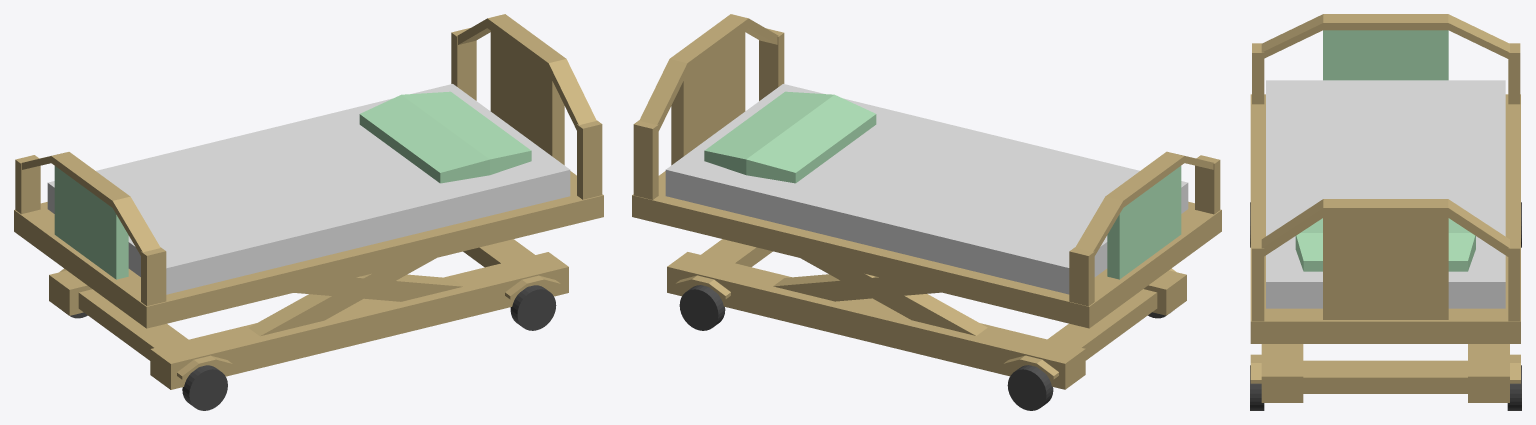
The model's file is hospital_bed.fbx.
3 renders of one model, left to right at view 1: azimuth 30°, elevation 25°; view 2: azimuth 150°, elevation 25°; view 3: azimuth 270°, elevation 25°, orthographic.
Visible parts, largest first — view 1: Cube.009, Cube, Cube.016, Cube.010, Cube.006, Cube.002, Cube.005, Cube.014, Cube.001, Cube.018, Cube.013, Cube.007 (+7 smaller); view 2: Cube.009, Cube, Cube.015, Cube.010, Cube.006, Cube.002, Cube.005, Cube.012, Cube.001, Cube.018, Cube.011, Cube.008 (+7 smaller); view 3: Cube.009, Cube.006, Cube, Cube.002, Cube.017, Cube.005, Cube.001, Cube.016, Cube.015, Cube.010, Cube.008, Cube.007 (+6 smaller).
Part boxes in pixels (x1,y1,x2,y2): Cube.009: (47, 84, 570, 294); Cube: (14, 171, 603, 328); Cube.016: (150, 252, 568, 389); Cube.010: (359, 91, 531, 183); Cube.006: (490, 31, 564, 165); Cube.002: (54, 166, 128, 279); Cube.005: (457, 14, 596, 130); Cube.014: (249, 258, 436, 336); Cube.001: (21, 152, 160, 255); Cube.018: (78, 289, 188, 360); Cube.013: (294, 274, 462, 301); Cube.007: (577, 120, 602, 199); Cube.009: (665, 84, 1188, 294); Cube: (632, 171, 1221, 328); Cube.015: (667, 252, 1085, 389); Cube.010: (704, 91, 876, 183); Cube.006: (671, 31, 745, 165); Cube.002: (1107, 166, 1181, 279); Cube.005: (639, 14, 778, 130); Cube.012: (801, 258, 987, 335); Cube.001: (1075, 151, 1214, 255); Cube.018: (1047, 289, 1157, 360); Cube.011: (773, 274, 941, 301); Cube.008: (633, 120, 658, 199); Cube.009: (1266, 80, 1505, 308); Cube.006: (1323, 217, 1448, 319); Cube: (1250, 94, 1520, 343); Cube.002: (1323, 30, 1448, 80); Cube.017: (1303, 360, 1467, 393); Cube.005: (1261, 199, 1509, 256); Cube.001: (1261, 14, 1509, 58); Cube.016: (1261, 344, 1303, 402); Cube.015: (1468, 344, 1509, 402); Cube.010: (1295, 218, 1475, 271); Cube.008: (1508, 239, 1520, 321); Cube.007: (1252, 239, 1264, 321).
Bounding box in the file's own units: 596 × 286 × 301.
